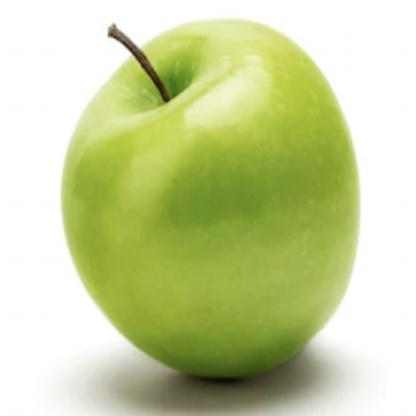apple: (56, 13, 366, 383)
